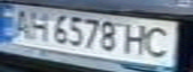5: (66, 14, 84, 48)
6: (48, 11, 72, 45)
7: (81, 16, 103, 51)
8: (96, 18, 124, 53)
A: (6, 7, 36, 39)
C: (142, 24, 178, 60)
H: (121, 21, 154, 57), (24, 8, 54, 43)
